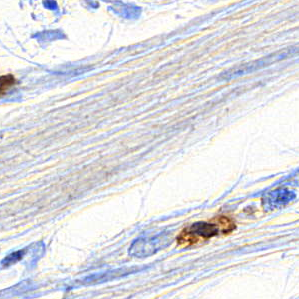Lymphocyte: (175, 215, 237, 247)
